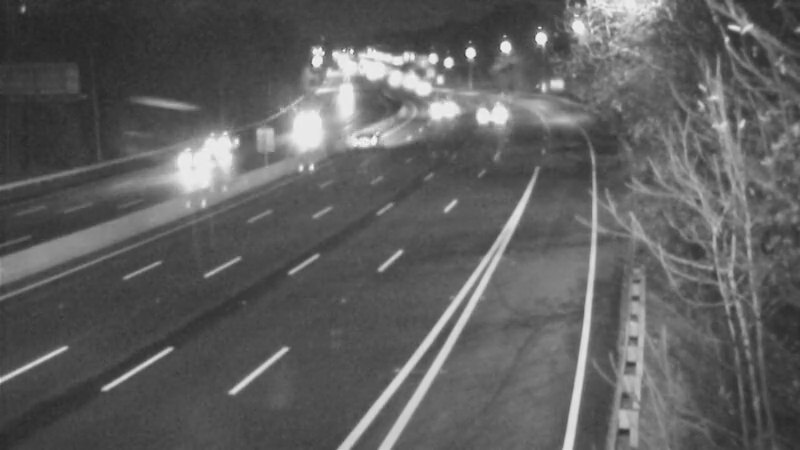vehicle: (139, 126, 219, 206), (415, 77, 465, 127), (460, 93, 510, 143), (340, 117, 390, 167), (198, 119, 248, 169), (279, 102, 329, 152)
